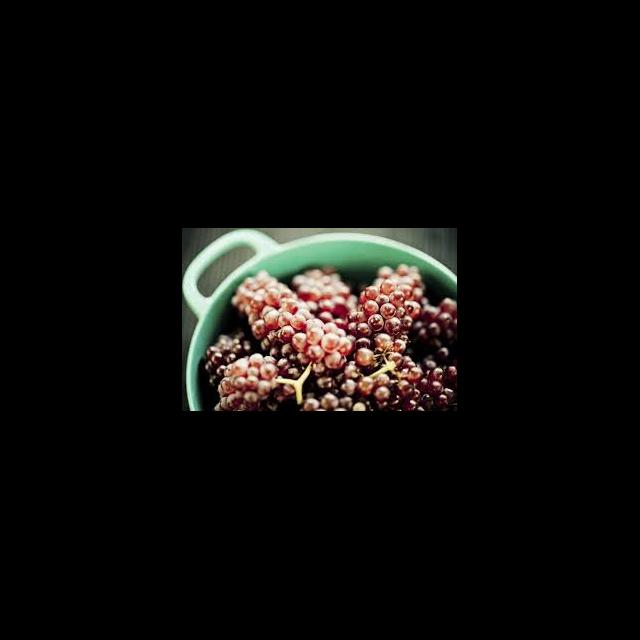grape: (203, 264, 457, 411)
